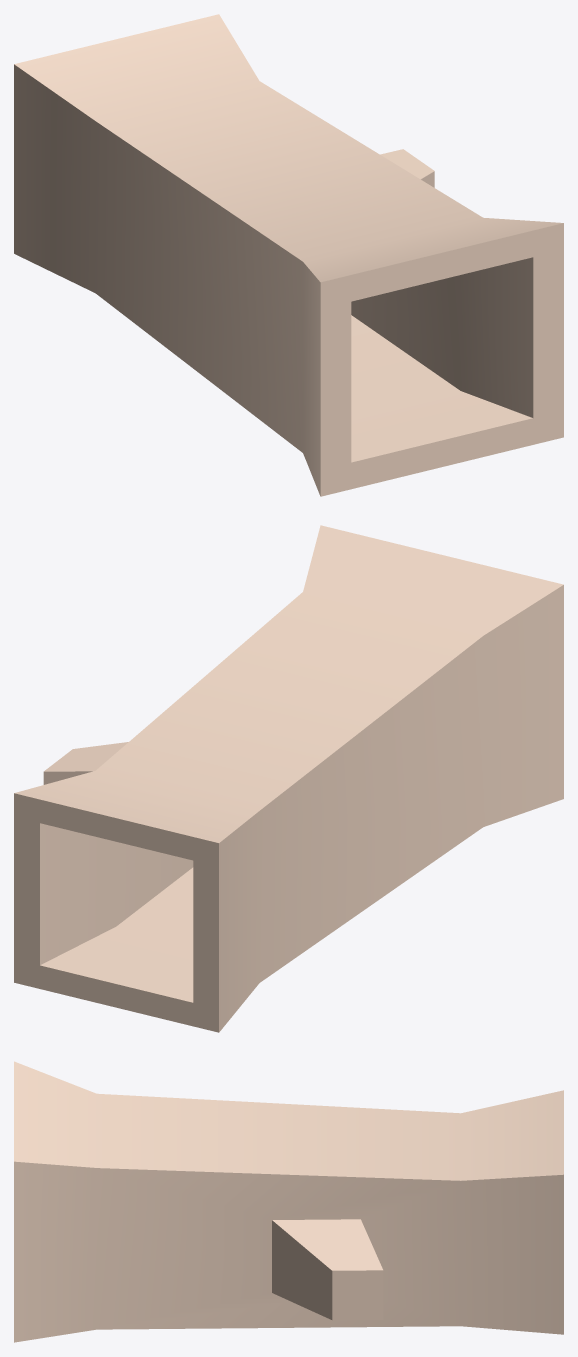
File: log_large.fbx
3 renders of one model, top to bottom at view 1: azimuth 30°, elevation 25°; view 2: azimuth 150°, elevation 25°; view 3: azimuth 270°, elevation 25°, orthographic. The views are drawn at different scales.
Parts seen in each view (by area): view 1: log_large; view 2: log_large; view 3: log_large.
Boxes of the visible parts, x1,y1,x2,y2 form: log_large: (14, 14, 563, 496); log_large: (14, 525, 563, 1032); log_large: (14, 1061, 563, 1342).
Bounding box in the file's own units: 123 × 83.5 × 230.
